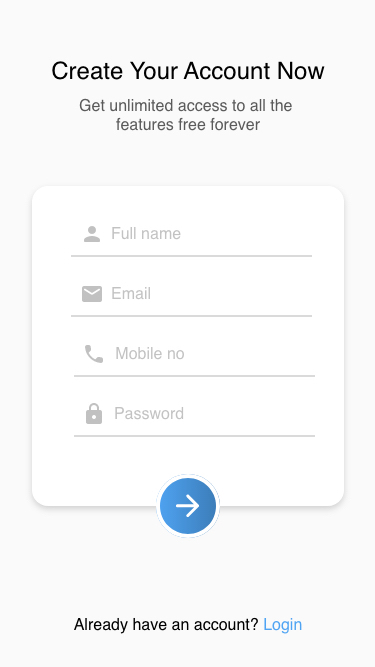Card: (32, 186, 344, 507)
EditText: (74, 403, 316, 438), (74, 345, 316, 378), (71, 286, 313, 318), (71, 226, 313, 258)
Icon: (156, 474, 221, 538), (86, 403, 103, 425), (82, 286, 103, 303), (84, 226, 101, 243)
Image: (85, 345, 104, 364)
Text: (80, 99, 293, 132), (52, 61, 325, 81), (74, 617, 302, 634), (115, 407, 184, 420), (116, 347, 185, 360), (112, 227, 181, 240), (112, 287, 151, 300)
